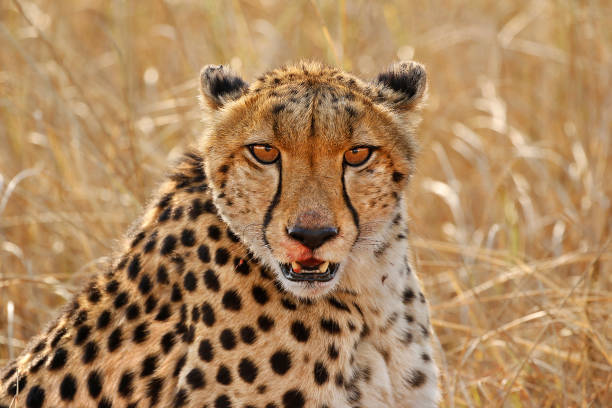cheetah: (177, 31, 448, 333)
